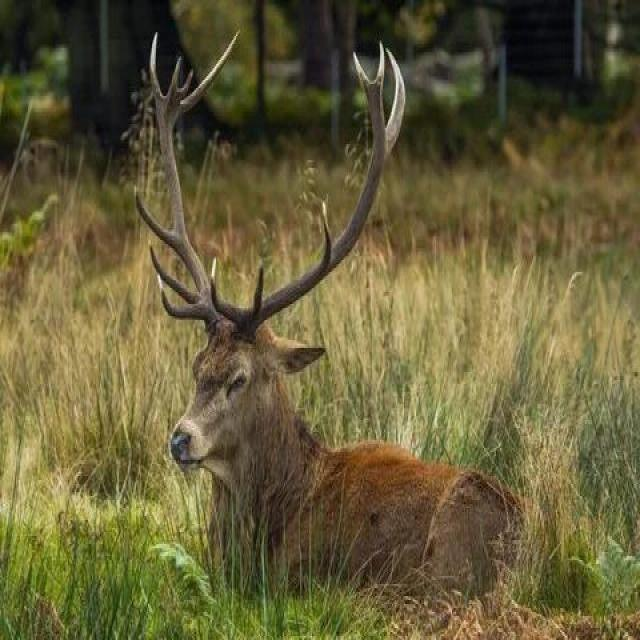deer: (91, 52, 574, 583)
